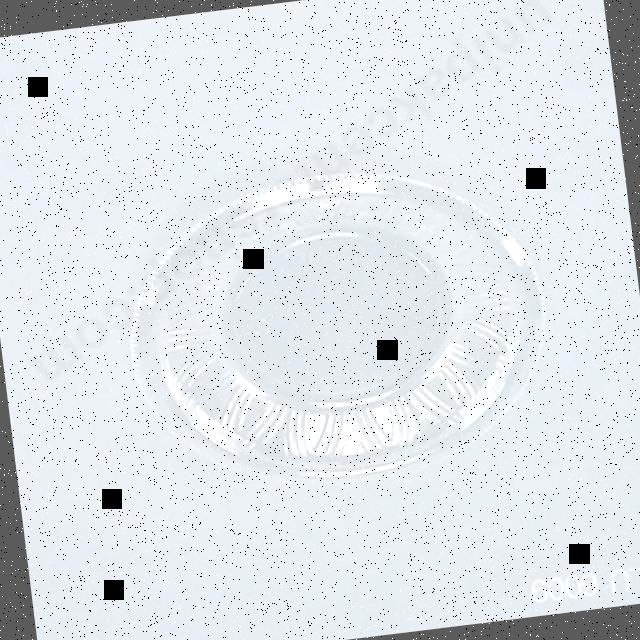plastic_box: (114, 145, 564, 506)
